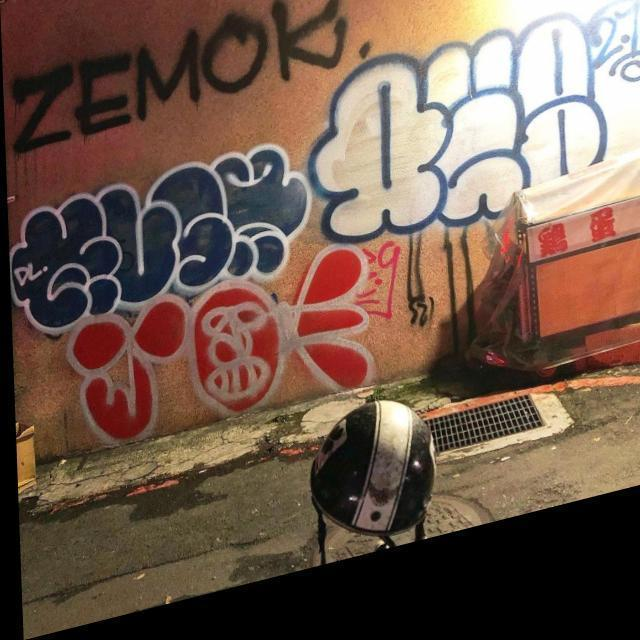nonspitting: (310, 12, 640, 238), (69, 243, 378, 447), (7, 143, 309, 334), (12, 1, 370, 154)
